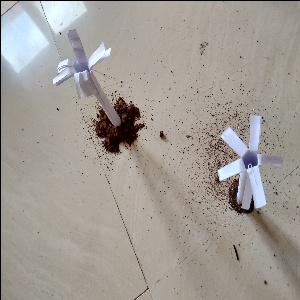weed: (51, 30, 135, 126), (218, 117, 277, 213)
